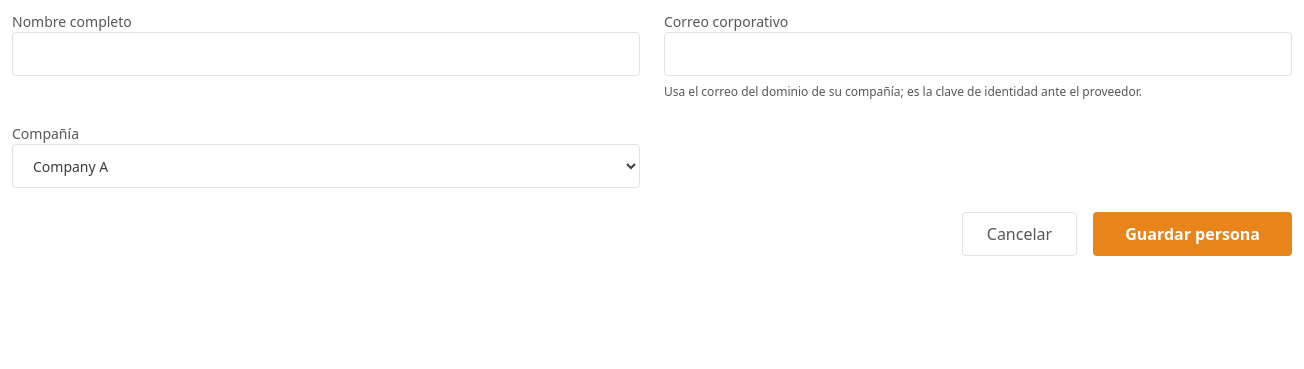
Test: PersonForm company-move behavior › renders localized structured field errors beside invalid controls
Type "Andrea" into the field labelled "Nombre completo" at point(326, 54), box [12,32,640,76]
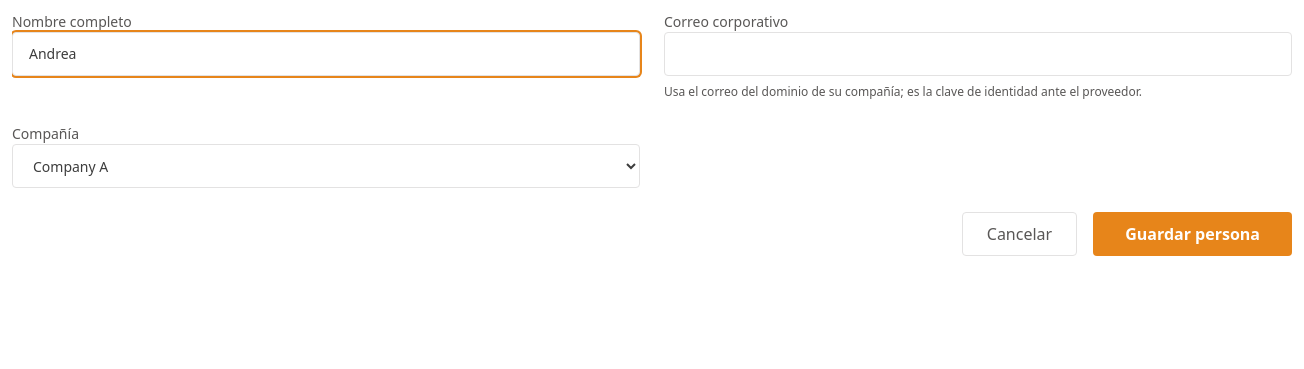
Type "andrea@example.com" into the field with test id "email" at point(978, 54), box [664,32,1292,76]
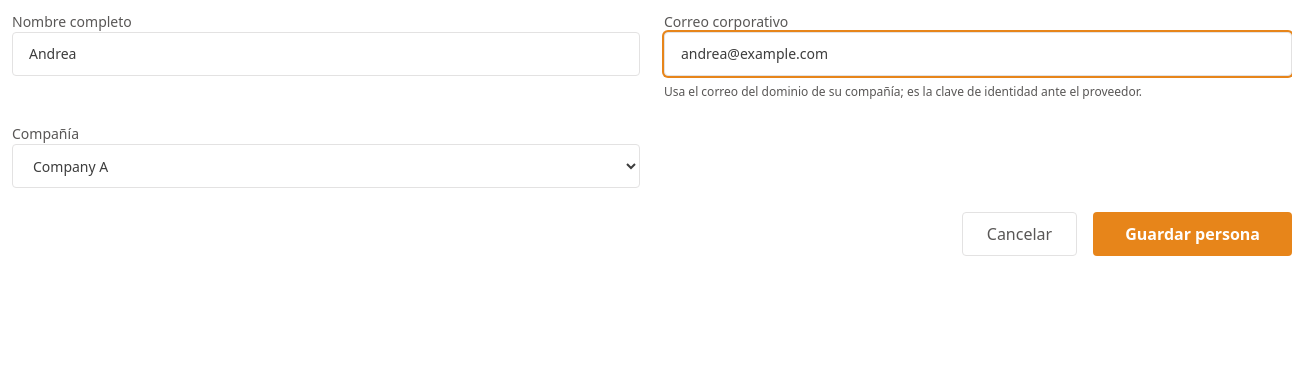
Click the button with test id "btn_save_person" at point(1193, 234), box [1093,212,1292,256]
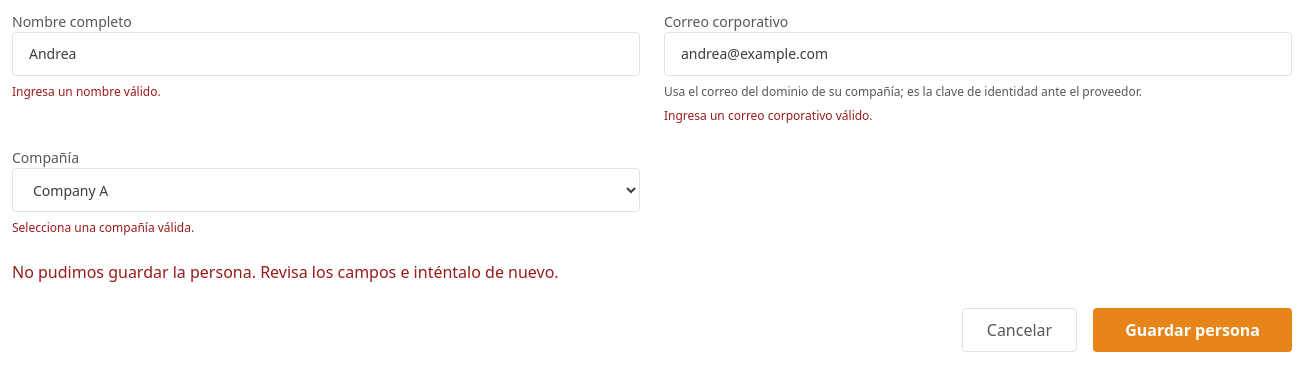
Check: the text "Ingresa un nombre válido." is shown, box [12,83,161,100]
Check: the text "Ingresa un correo corporativo válido." is shown, box [664,107,873,124]
Check: the text "Selecciona una compañía válida." is shown, box [12,219,194,236]
